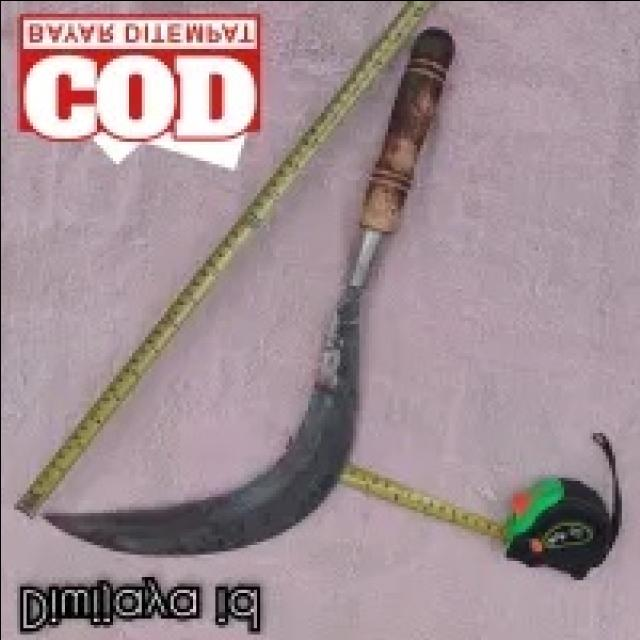Celurit: (45, 26, 458, 560)
